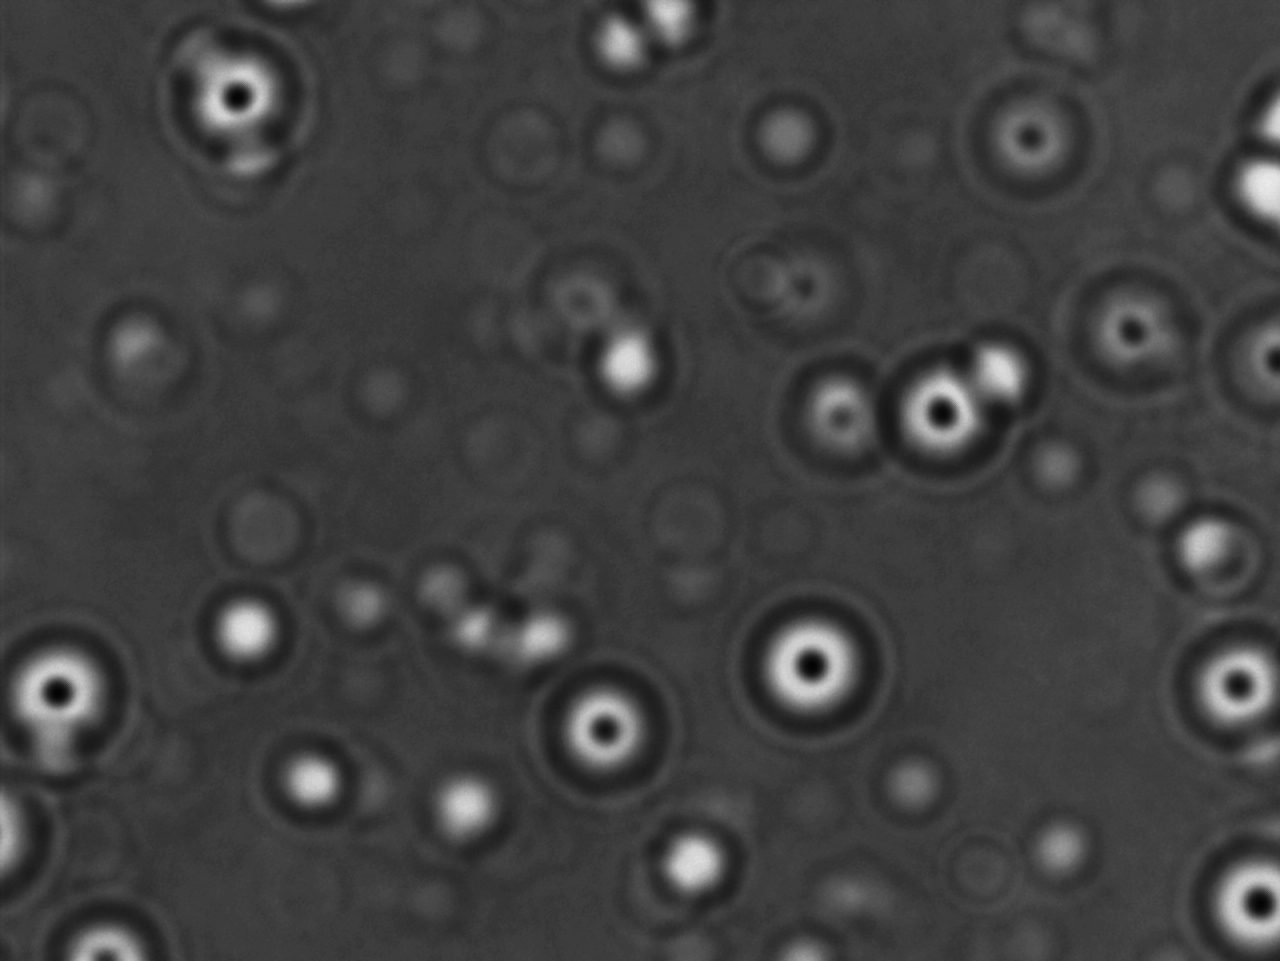depth:24: (722, 579, 897, 736), (531, 663, 667, 792), (877, 341, 998, 470), (168, 37, 293, 161), (1176, 617, 1280, 750), (1186, 835, 1280, 960)
